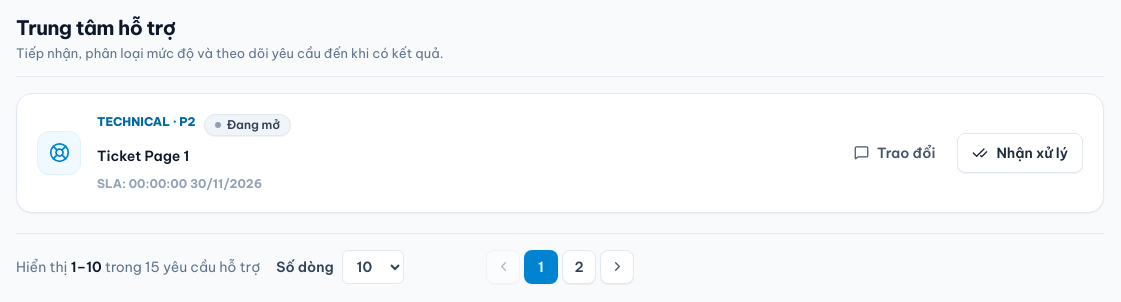
Scenario: SupportPage request lifecycle › chuyển trang danh sách phiếu hỗ trợ từ API phân trang
The width and height of the screenshot is (1121, 302).
Expected: the text "Ticket Page 1" is shown, [97,146,189,164]
Click the button named "Trang sau": (617, 266) [600,250,634,284]
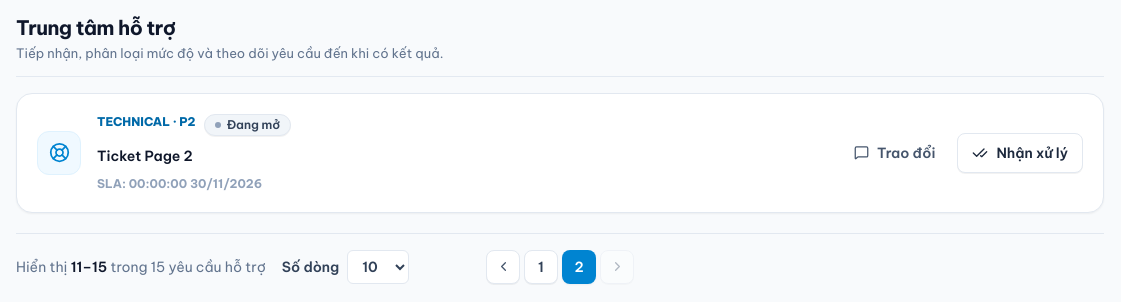
Expected: the text "Ticket Page 2" is shown, [97,146,193,164]
